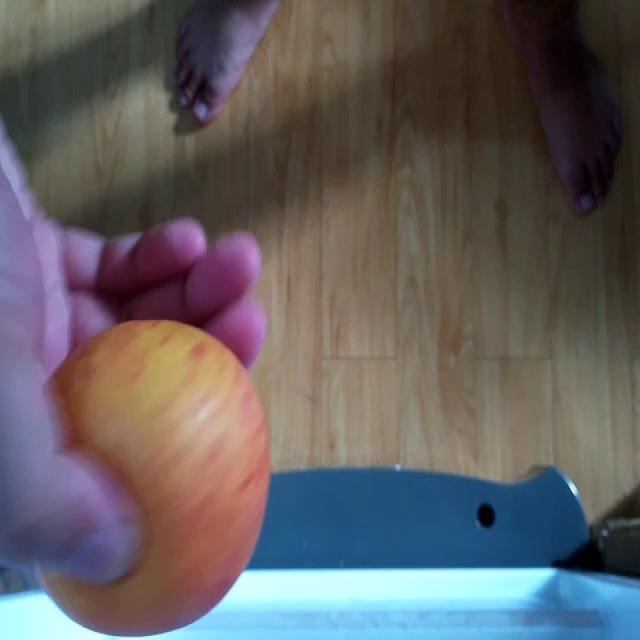apple: (24, 320, 271, 639)
